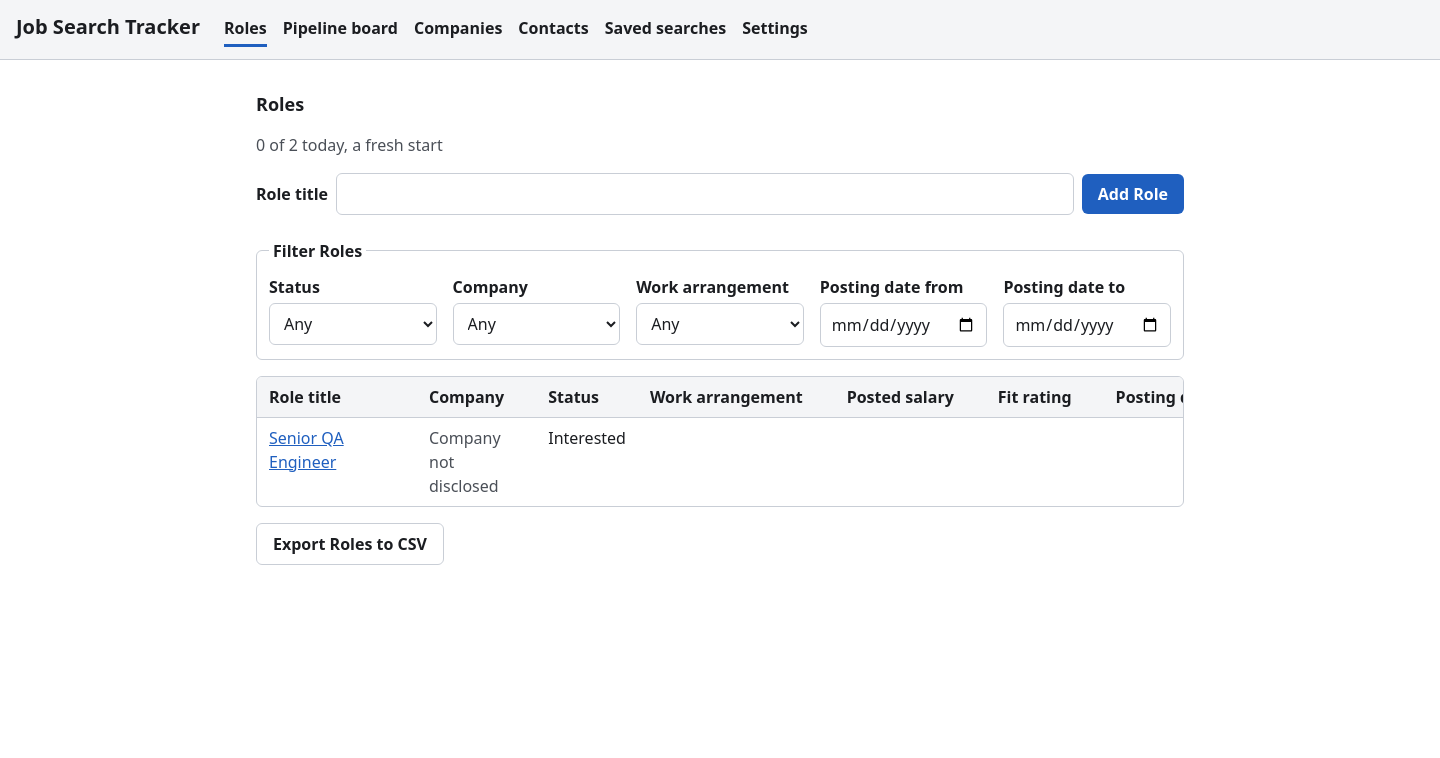
Test: Interviews on the Role detail page › Given a recruiter screen with Priya and Morgan, when I edit it to a hiring manager Interview with only Morgan, then it is listed that way and Morgan is the only
Click the link "Senior QA Engineer" at (306, 438), box [269,427,344,473]
(page scrolled)
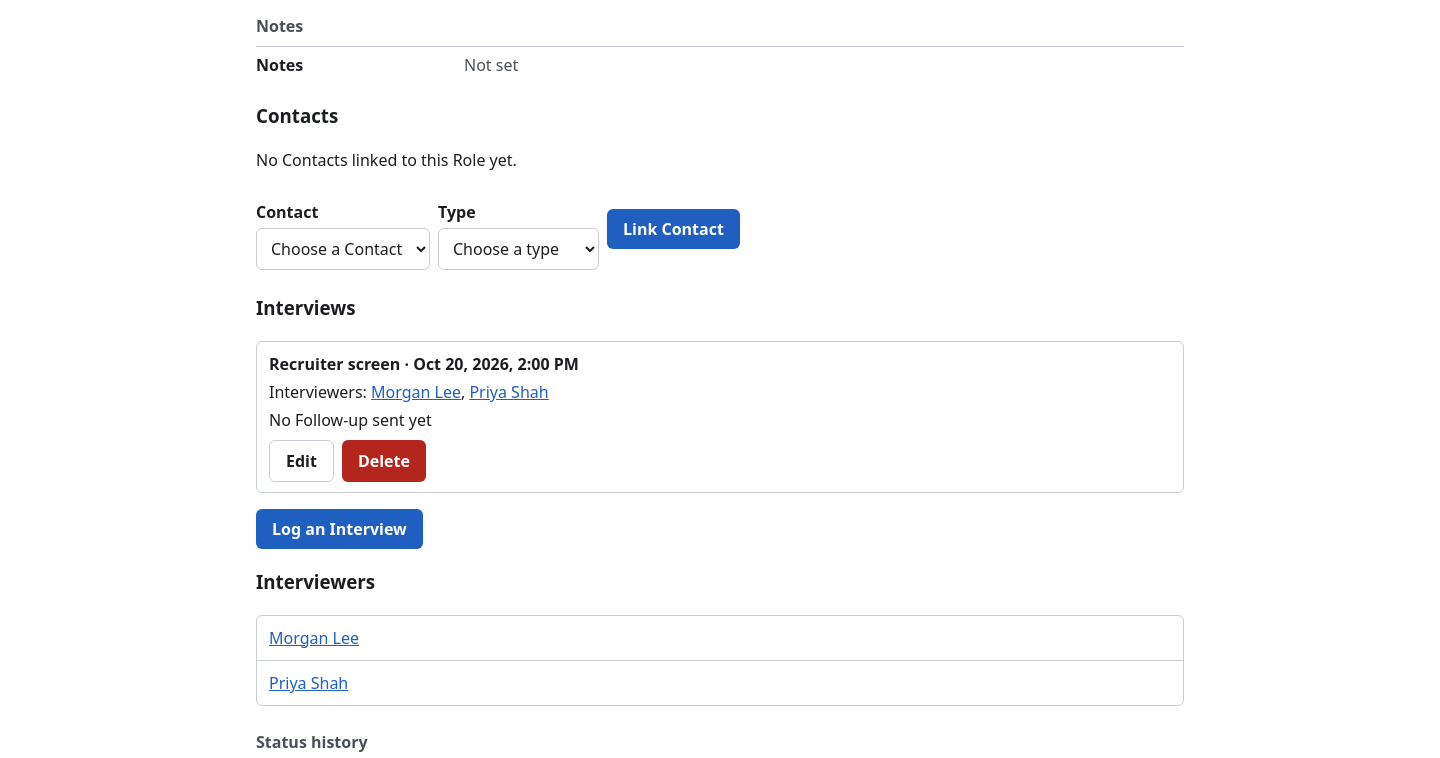
Click the button with aria-label "Edit Recruiter screen · Oct 20, 2026, 2:00 PM" at (301, 461), box [269,440,334,482]
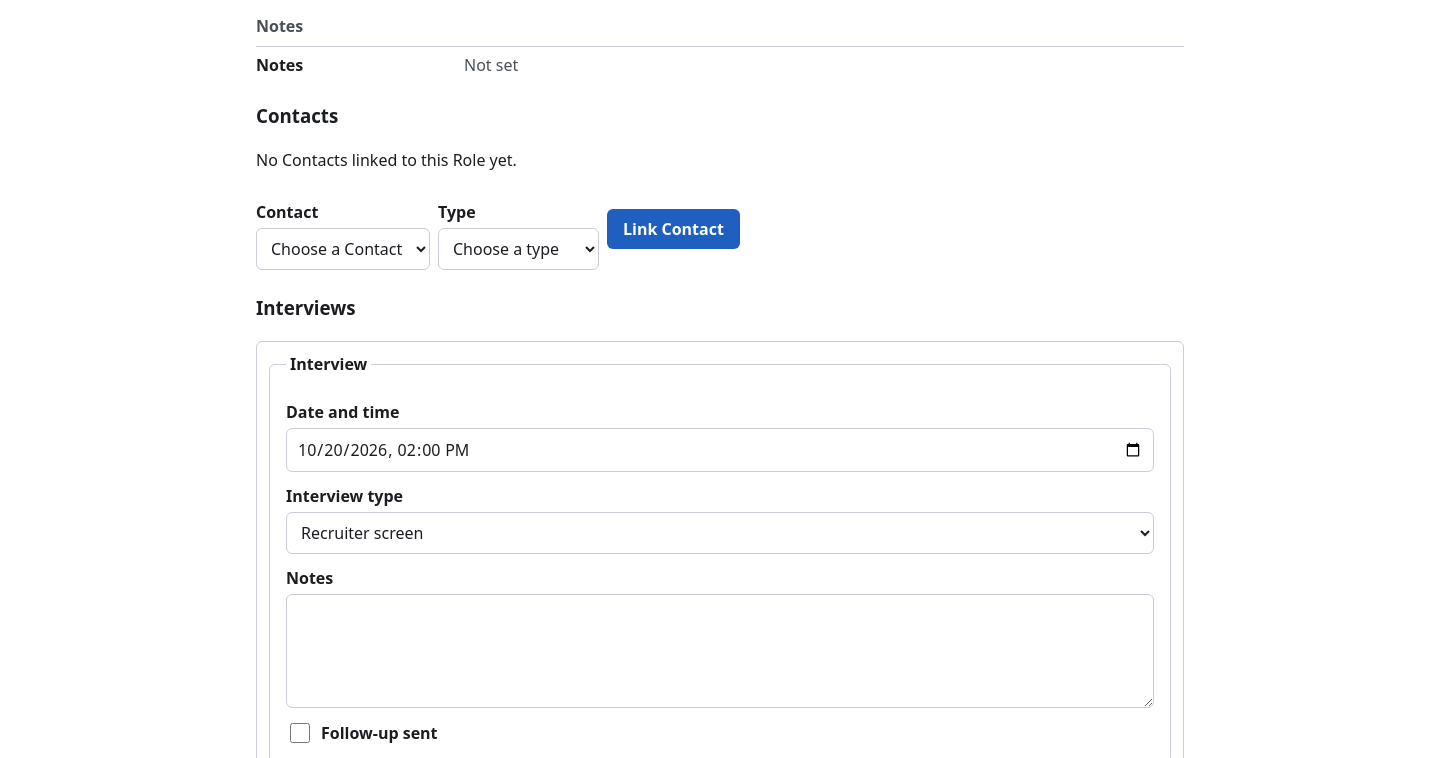
Expected: the field labelled "Date and time" holds "2026-10-20T14:00", [286,428,1154,472]
Select "Hiring manager" in the dropdown labelled "Interview type" at (720, 533), box [286,512,1154,554]
(page scrolled)
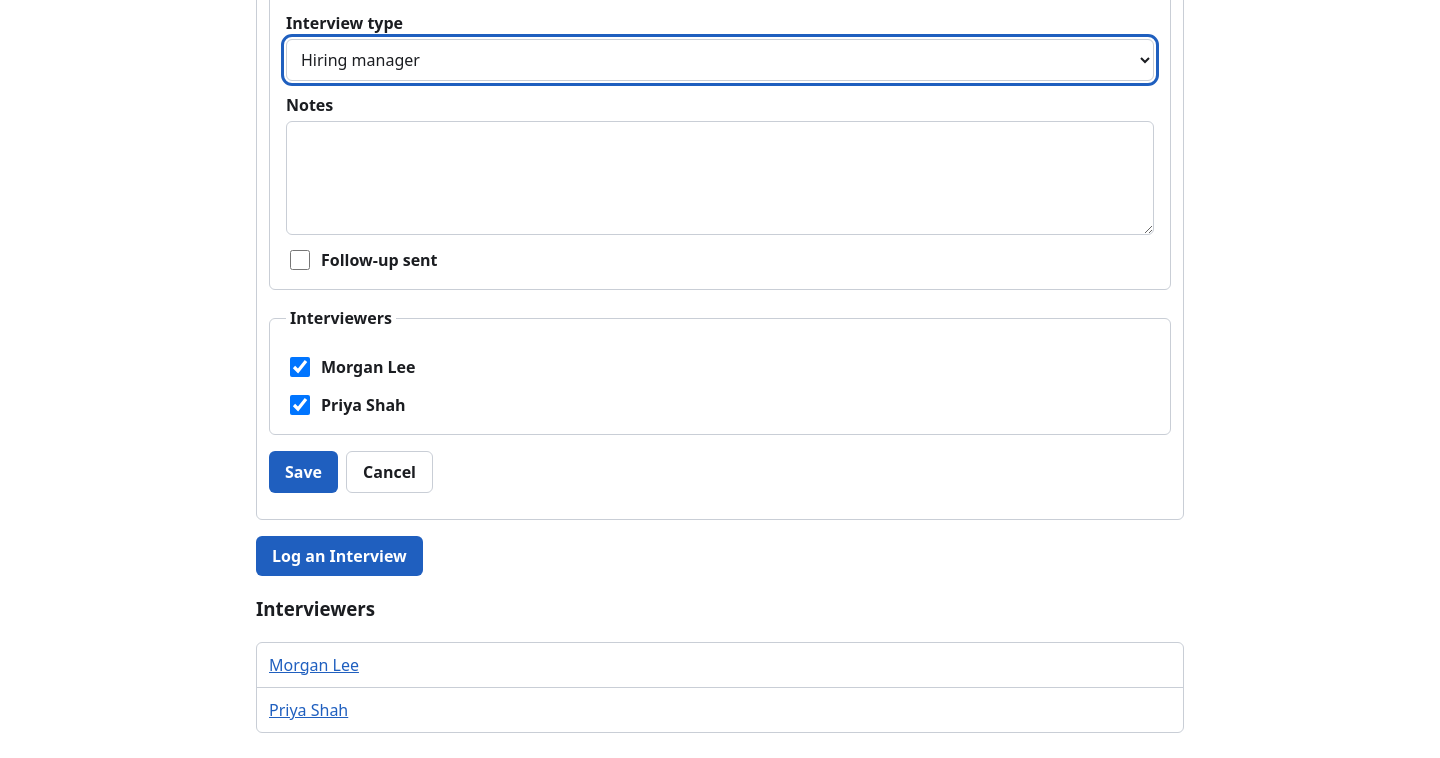
Click the checkbox labelled "Priya Shah" at (300, 405), box [290,395,310,415]
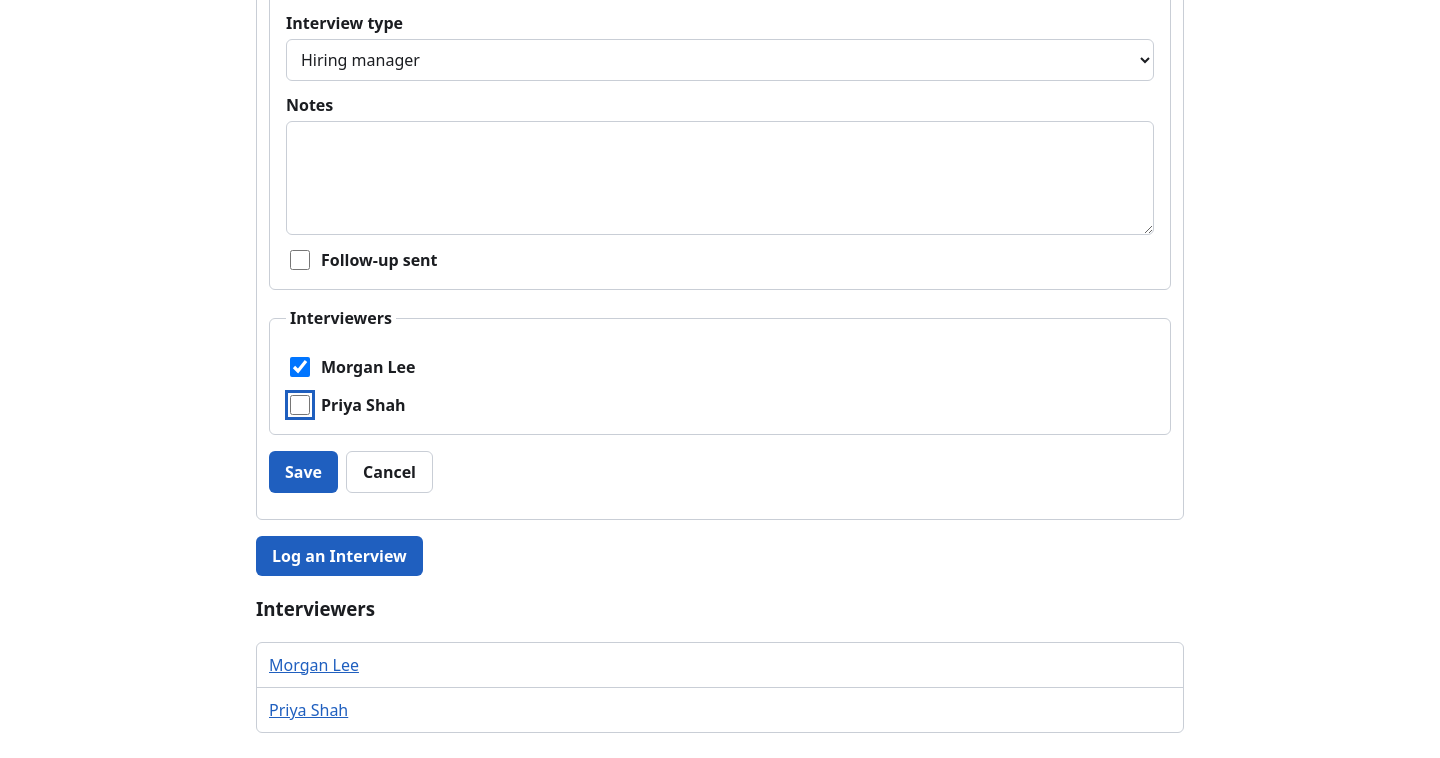
Click the button "Save" at (304, 472), box [269,451,338,493]
(page scrolled)
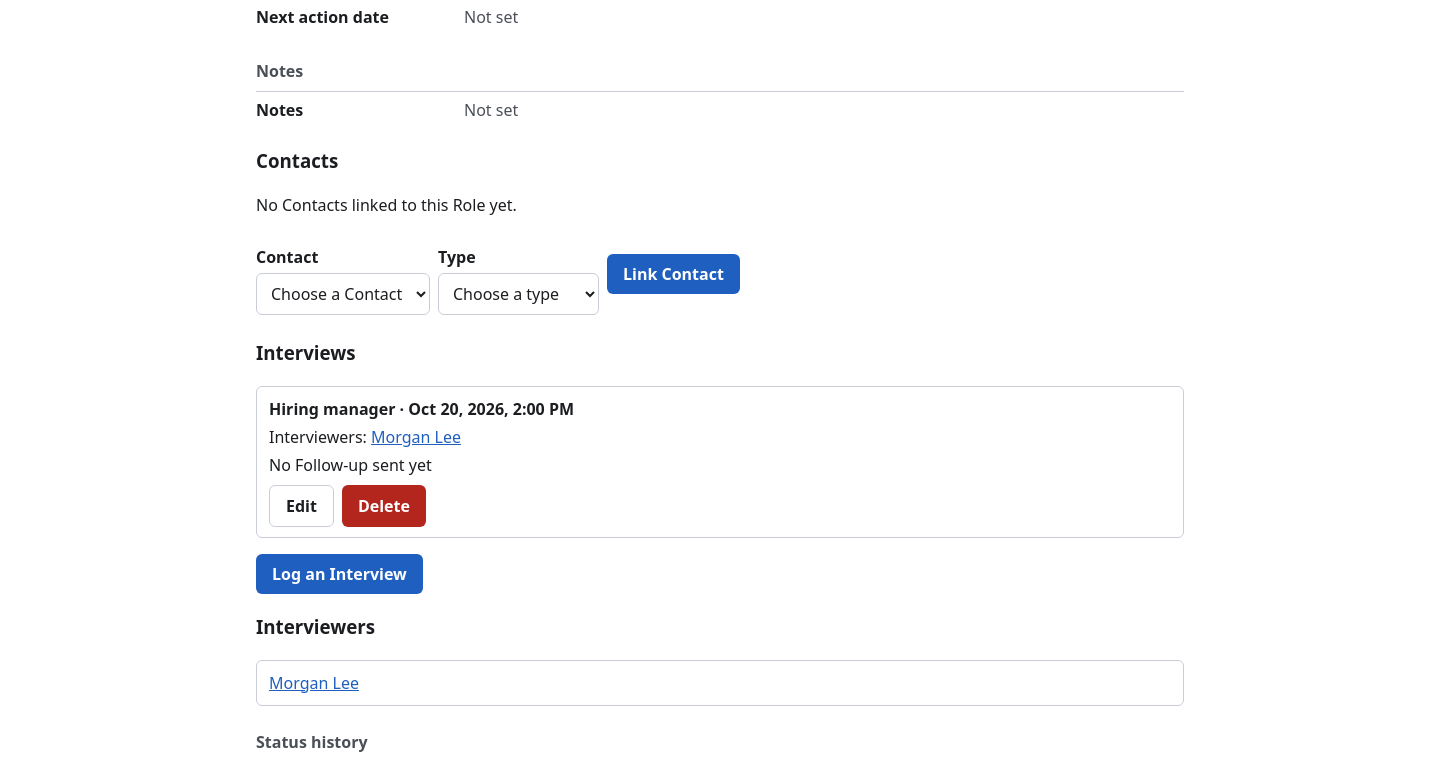
Expected: the list item "Hiring manager · Oct 20, 2026, 2:00 PM" shows "Interviewers: Morgan Lee", [269,398,574,527]
Expected: the list item "Hiring manager · Oct 20, 2026, 2:00 PM" shows "No Follow-up sent yet", [269,454,432,476]
Expected: the list named "Interviewers" reads "Morgan Lee", [269,672,359,694]
